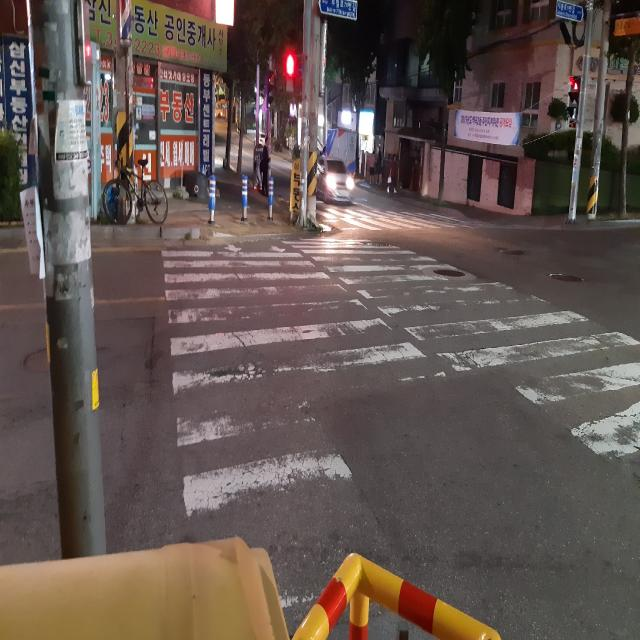빨간불: (284, 49, 298, 88)
횡단보도: (160, 237, 640, 613), (325, 206, 471, 224)
